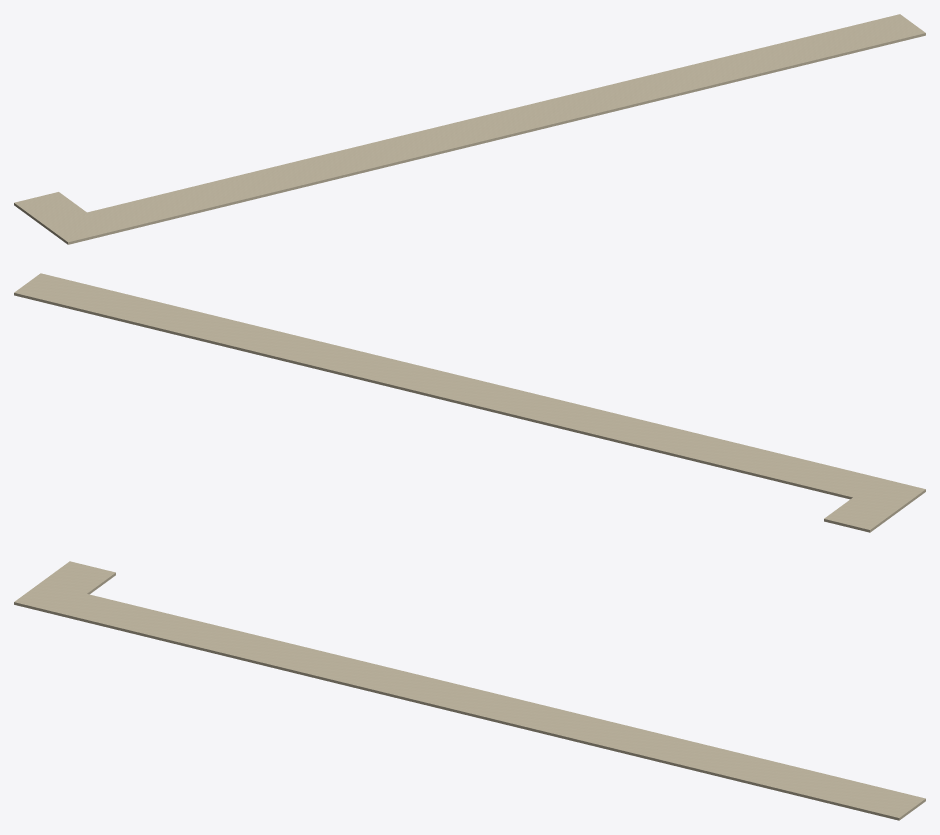
Rendered from LINK_D09_P379__floor.glb.
3 renders of one model, top to bottom at view 1: azimuth 30°, elevation 25°; view 2: azimuth 150°, elevation 25°; view 3: azimuth 330°, elevation 25°, orthographic. The views are drawn at different scales.
Visible parts, largest first — view 1: LINK_D09_P379__floor__warm_stone; view 2: LINK_D09_P379__floor__warm_stone; view 3: LINK_D09_P379__floor__warm_stone.
Part boxes in pixels (x1,y1,x2,y2): LINK_D09_P379__floor__warm_stone: [14, 14, 925, 244]; LINK_D09_P379__floor__warm_stone: [14, 273, 925, 532]; LINK_D09_P379__floor__warm_stone: [14, 561, 925, 820].
Size of the model in its own units: 84.2 by 0.24 by 9.2.
1 material, 1 textured.
